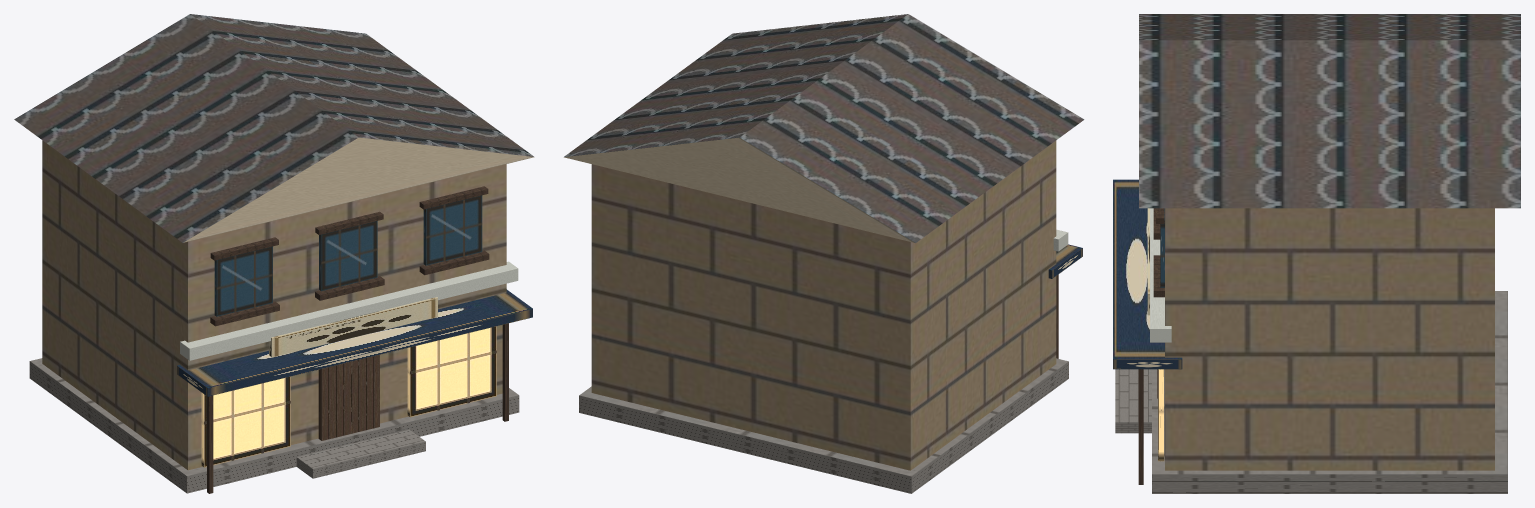
Rendered from nyanisyarud-tsukimi-cafe.glb.
3 renders of one model, left to right at view 1: azimuth 30°, elevation 25°; view 2: azimuth 150°, elevation 25°; view 3: azimuth 270°, elevation 25°, orthographic. The views are drawn at different scales.
Visible parts, largest first — view 1: nyanisyarud-tsukimi-cafe; view 2: nyanisyarud-tsukimi-cafe; view 3: nyanisyarud-tsukimi-cafe.
Boxes of the visible parts, left/top/right/bottom form: nyanisyarud-tsukimi-cafe: left=14, top=14, right=534, bottom=493; nyanisyarud-tsukimi-cafe: left=564, top=14, right=1084, bottom=493; nyanisyarud-tsukimi-cafe: left=1113, top=14, right=1520, bottom=493.
Bounding box in the file's own units: 10.6 × 9.2 × 9.4.
1 material, 1 textured.
